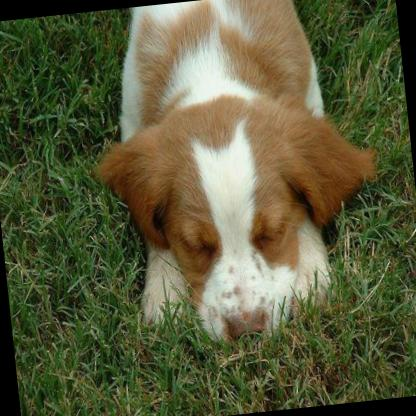Brittany_spaniel: (72, 0, 392, 355)
